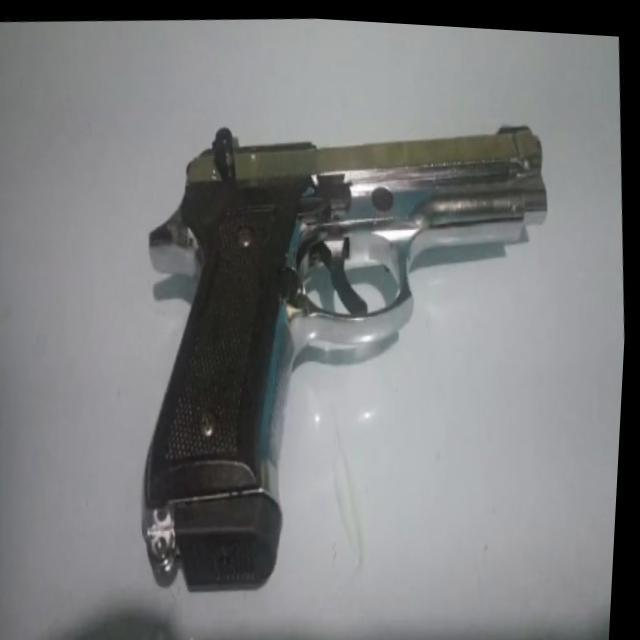weapon: (116, 92, 579, 610)
